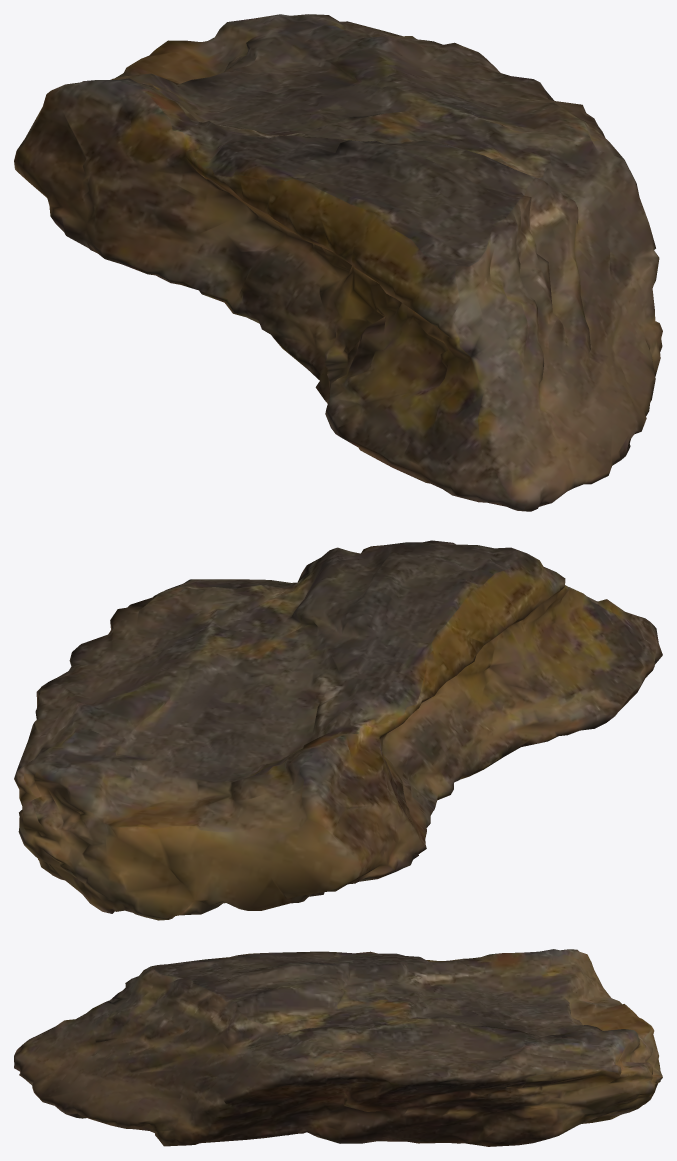
File: rock_09.glb
3 renders of one model, top to bottom at view 1: azimuth 30°, elevation 25°; view 2: azimuth 150°, elevation 25°; view 3: azimuth 270°, elevation 25°, orthographic. The views are drawn at different scales.
Visible parts, largest first — view 1: rock_09_LOD0; view 2: rock_09_LOD0; view 3: rock_09_LOD0.
Boxes of the visible parts, x1,y1,x2,y2 form: rock_09_LOD0: (14, 14, 662, 511); rock_09_LOD0: (14, 540, 662, 920); rock_09_LOD0: (14, 949, 662, 1146).
Bounding box in the file's own units: 0.074 × 0.0328 × 0.1446.
Materials: 1 (1 with a texture image).
